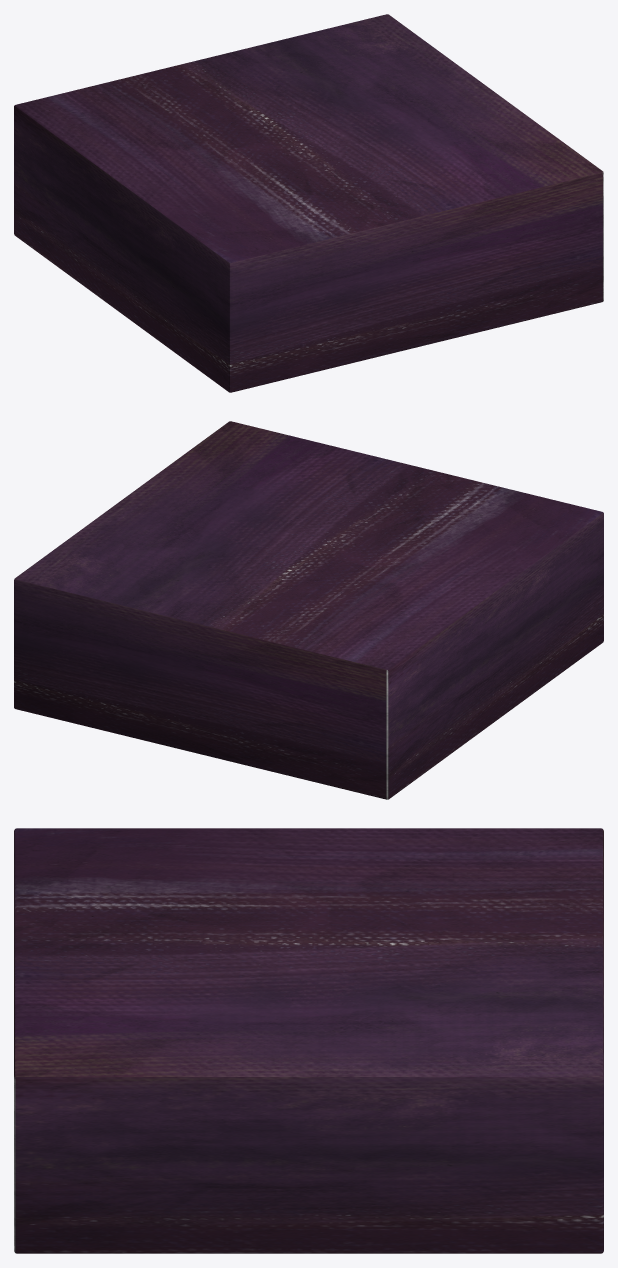
File: MANOR_GROUND_3.obj
3 renders of one model, top to bottom at view 1: azimuth 30°, elevation 25°; view 2: azimuth 150°, elevation 25°; view 3: azimuth 270°, elevation 25°, orthographic. The views are drawn at different scales.
Visible parts, largest first — view 1: MANOR_GROUND_3.002; view 2: MANOR_GROUND_3.002; view 3: MANOR_GROUND_3.002.
Boxes of the visible parts, x1,y1,x2,y2 form: MANOR_GROUND_3.002: [14, 14, 603, 392]; MANOR_GROUND_3.002: [14, 421, 603, 799]; MANOR_GROUND_3.002: [14, 828, 603, 1253].
Size of the model in its own units: 3 by 1 by 3.
